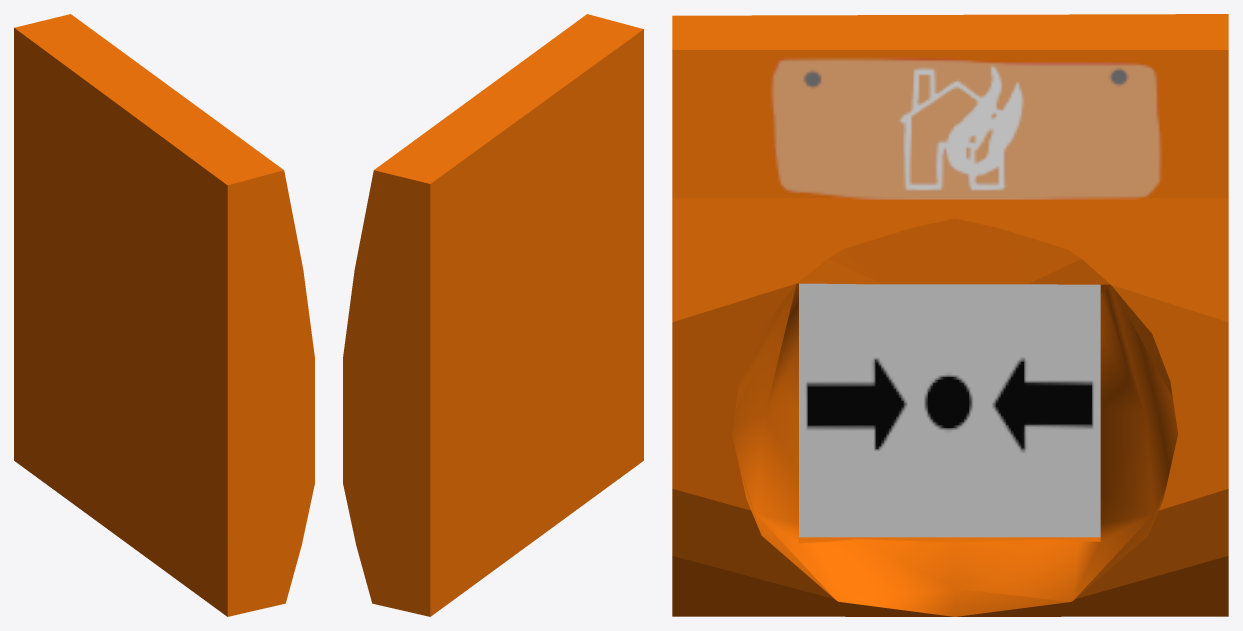
The model's file is FireAlarmButtonOrange.fbx.
3 views of the same model, side by side, from view 1: azimuth 30°, elevation 25°; view 2: azimuth 150°, elevation 25°; view 3: azimuth 270°, elevation 25° (orthographic). The views are drawn at different scales.
Visible parts, largest first — view 1: FireAlarmOrange; view 2: FireAlarmOrange; view 3: FireAlarmOrange.
Boxes of the visible parts, box(x1,y1,x2,y2) form: FireAlarmOrange: box(14, 14, 314, 616); FireAlarmOrange: box(343, 14, 643, 616); FireAlarmOrange: box(672, 14, 1228, 616).
Size of the model in its own units: 1.16 by 5.12 by 4.56.
